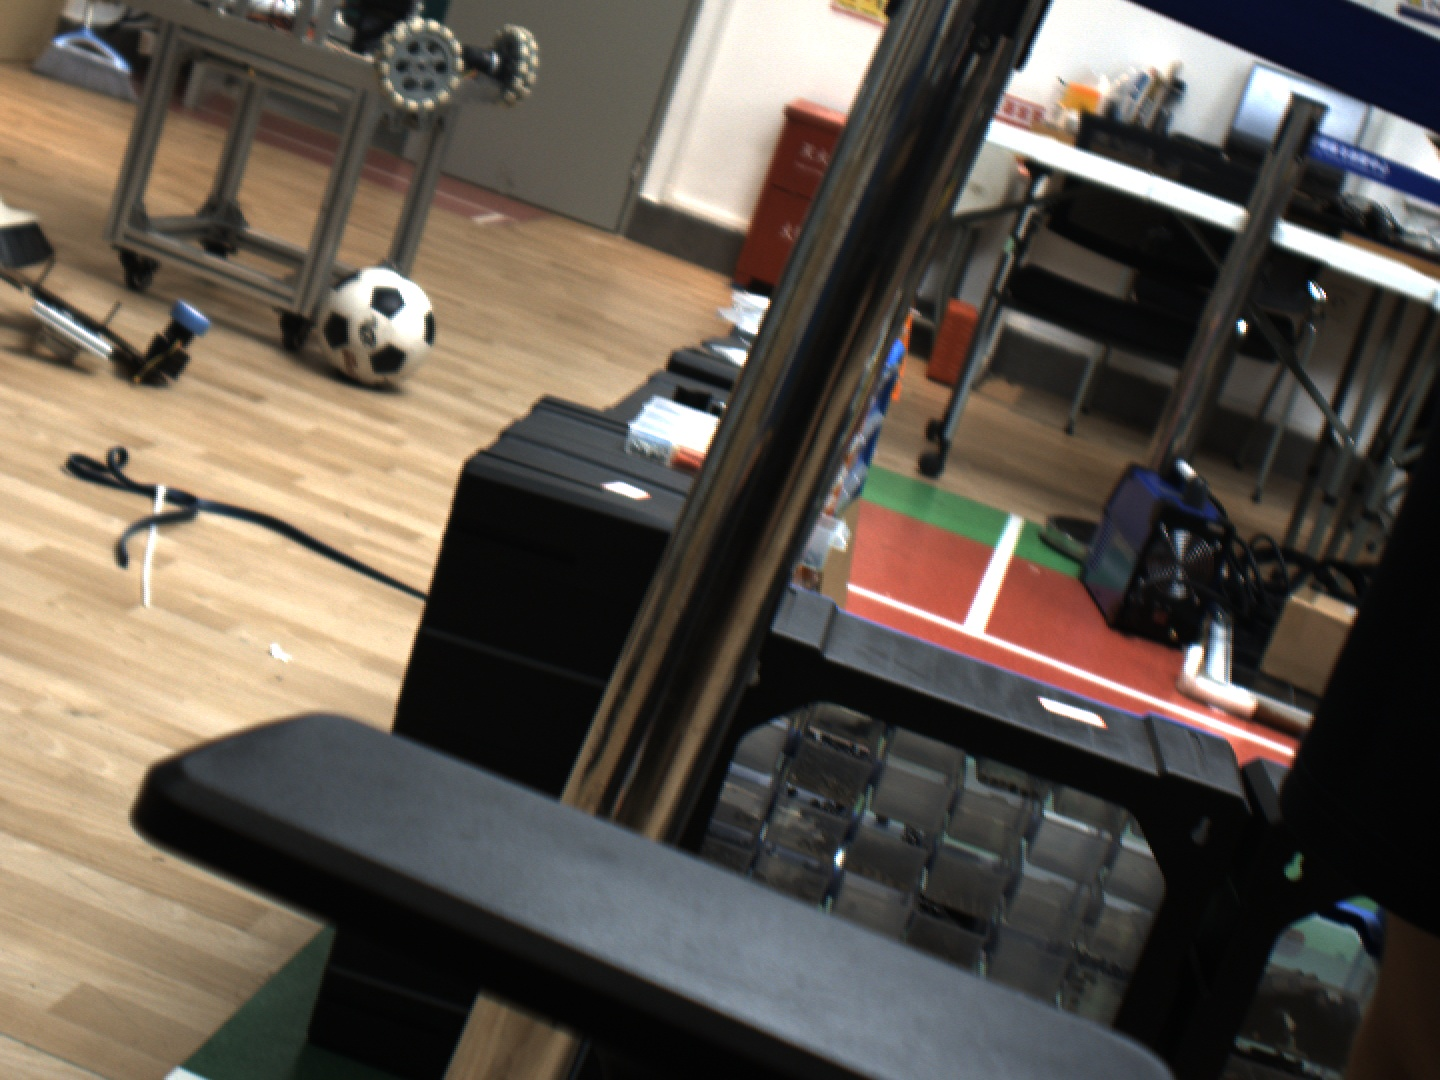ball: (303, 255, 452, 395)
